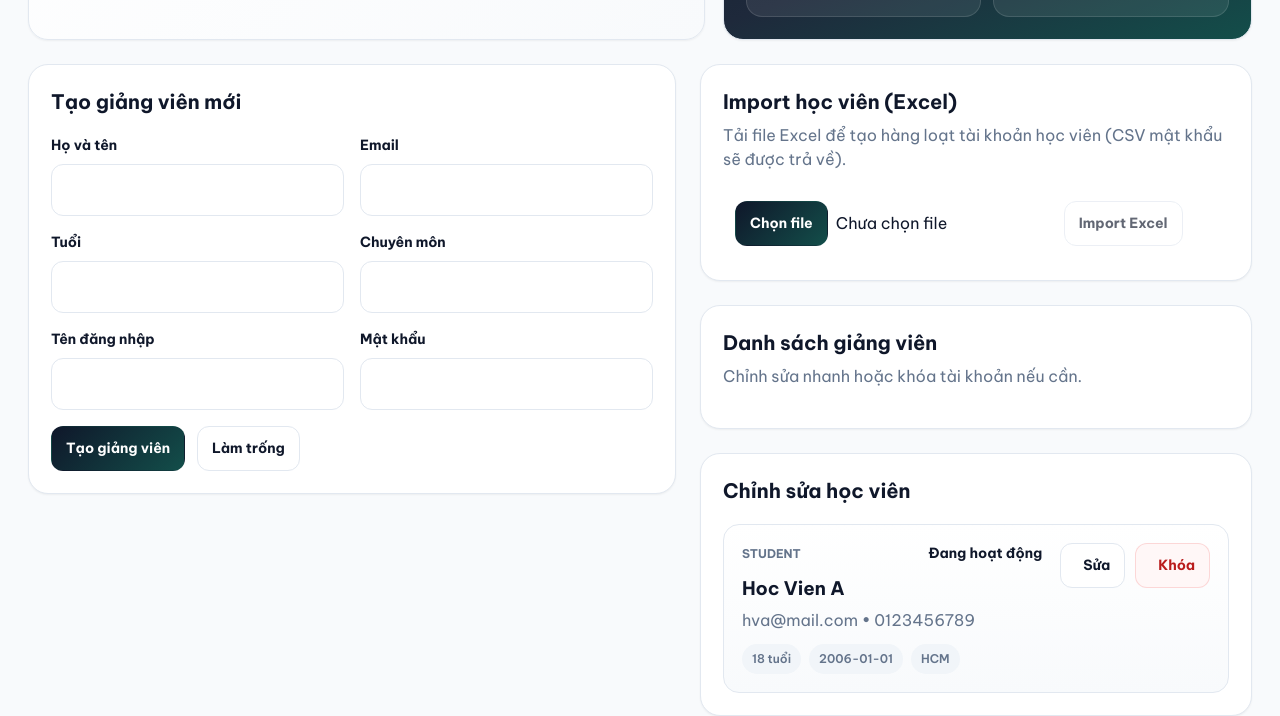
it: AdminUsersPage › hien thi loi khi khoa tai khoan that bai
(page scrolled)
Click the button "Khóa" at (1173, 565), box [1135, 543, 1210, 588]
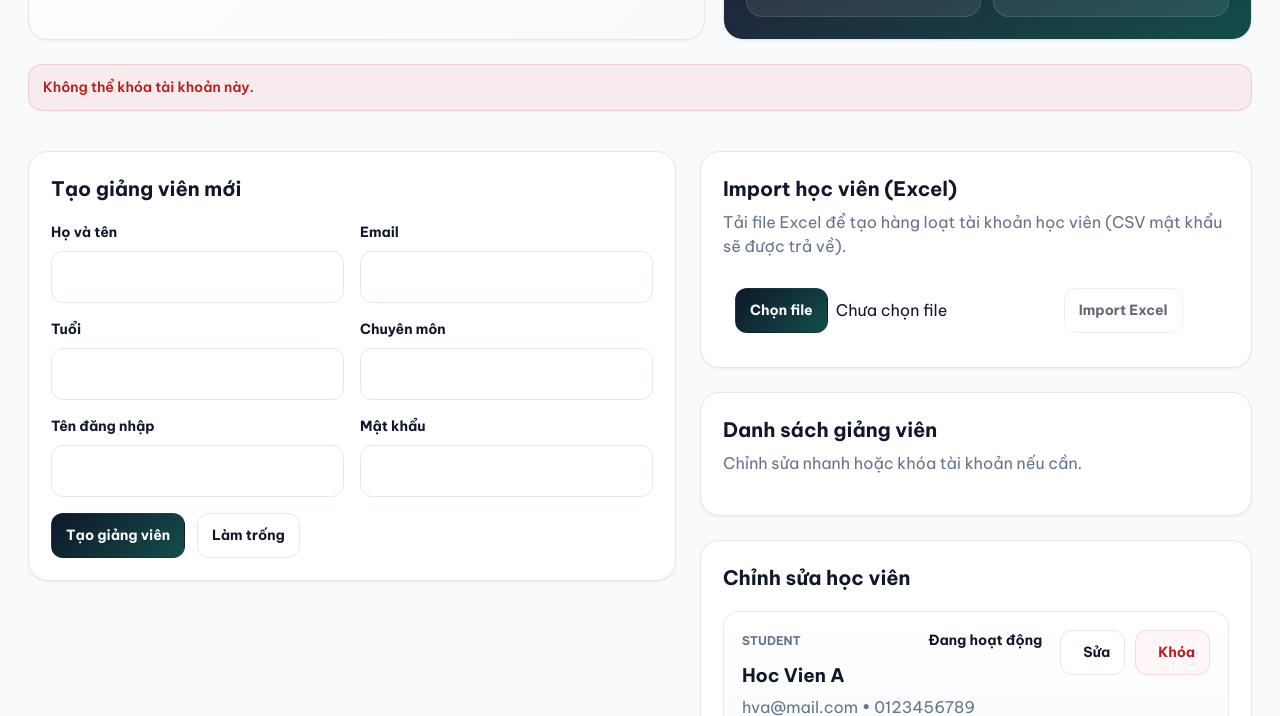
Check: the text "Không thể khóa tài khoản này." is shown, box [28, 64, 1252, 111]
